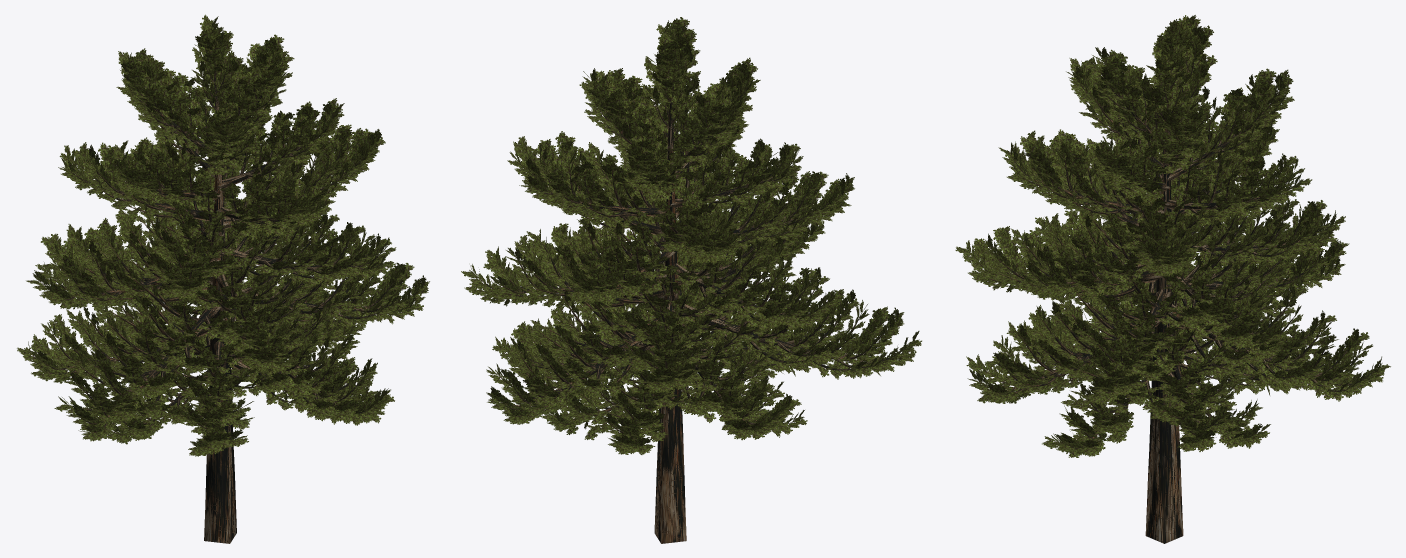
The model's file is tree_1.fbx.
The picture shows the model from 3 angles, left to right: view 1: azimuth 30°, elevation 25°; view 2: azimuth 150°, elevation 25°; view 3: azimuth 270°, elevation 25°; orthographic projection. The views are drawn at different scales.
Visible parts, largest first — view 1: leaves.001, tree.001; view 2: leaves.001, tree.001; view 3: leaves.001, tree.001.
Boxes of the visible parts, x1=… form: leaves.001: x1=17, y1=14, x2=429, y2=456; tree.001: x1=29, y1=27, x2=413, y2=543; leaves.001: x1=461, y1=17, x2=921, y2=454; tree.001: x1=476, y1=58, x2=911, y2=543; leaves.001: x1=955, y1=15, x2=1390, y2=457; tree.001: x1=968, y1=31, x2=1375, y2=543.
Size of the model in its own units: 541 by 697 by 538.
2 materials, 2 textured.
